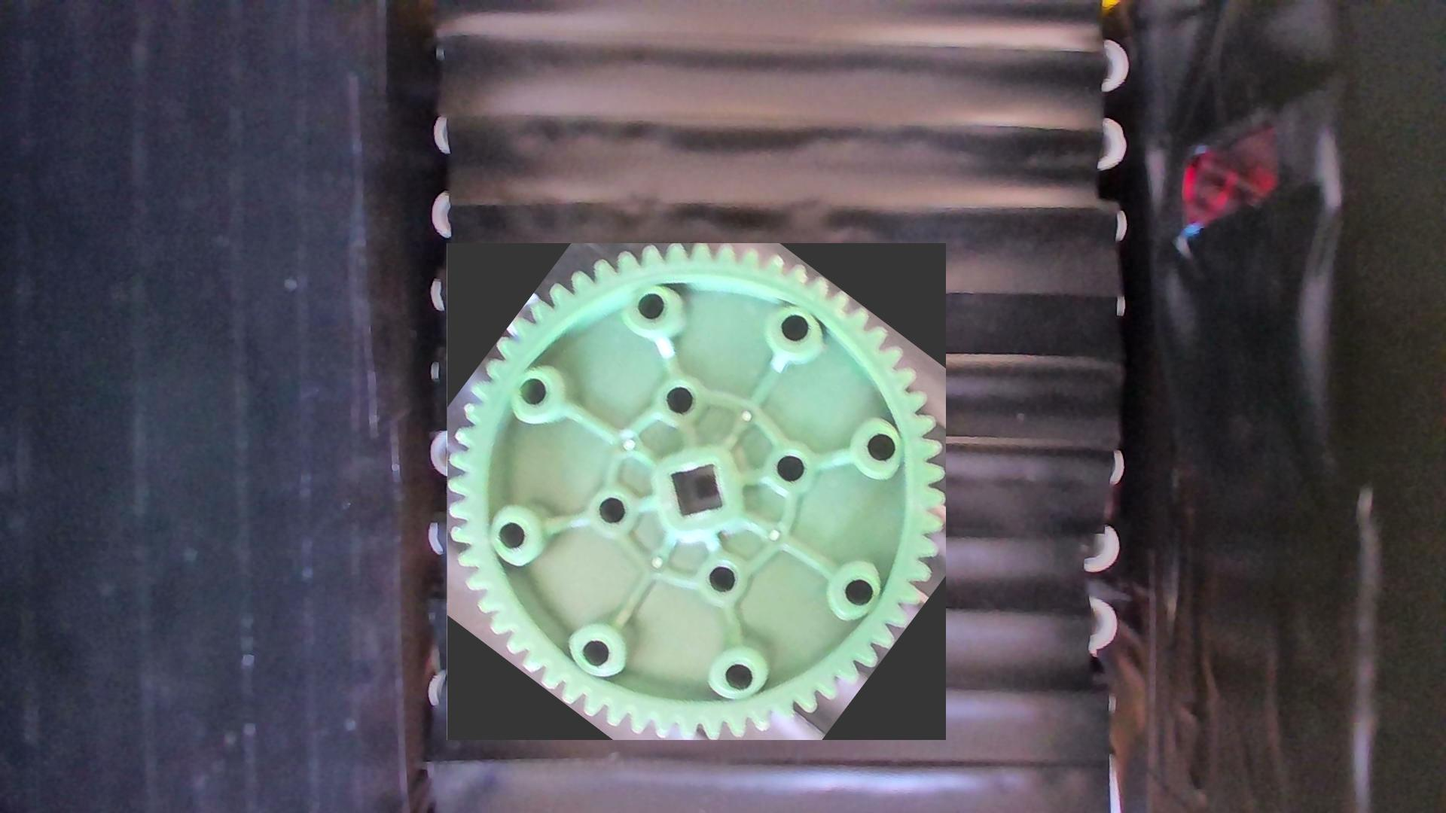gear: (446, 243, 945, 740)
